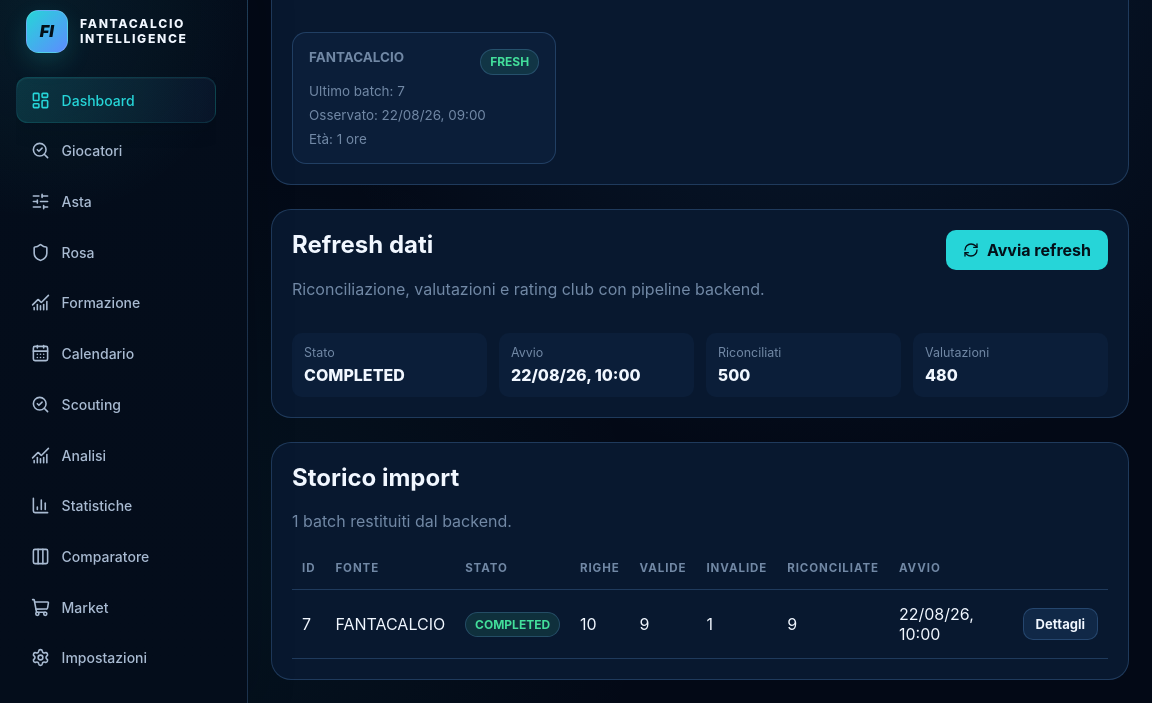
it: F14 admin page › carica il dettaglio import solo su richiesta
The width and height of the screenshot is (1152, 703).
(page scrolled)
Click the button "Dettagli". click: (1060, 624)
box: [1023, 608, 1098, 640]
(page scrolled)
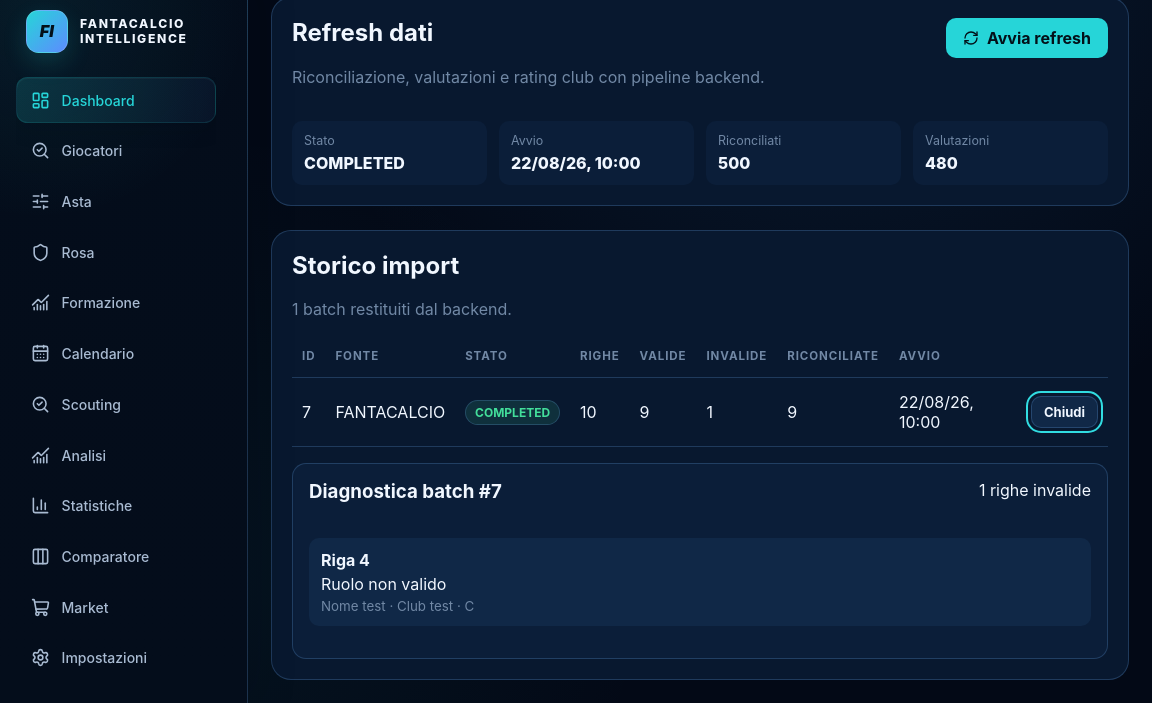
Check: the text "Ruolo non valido" is shown, box [321, 574, 446, 594]
Check: the heading "Diagnostica batch #7" is shown, box [309, 480, 502, 503]
